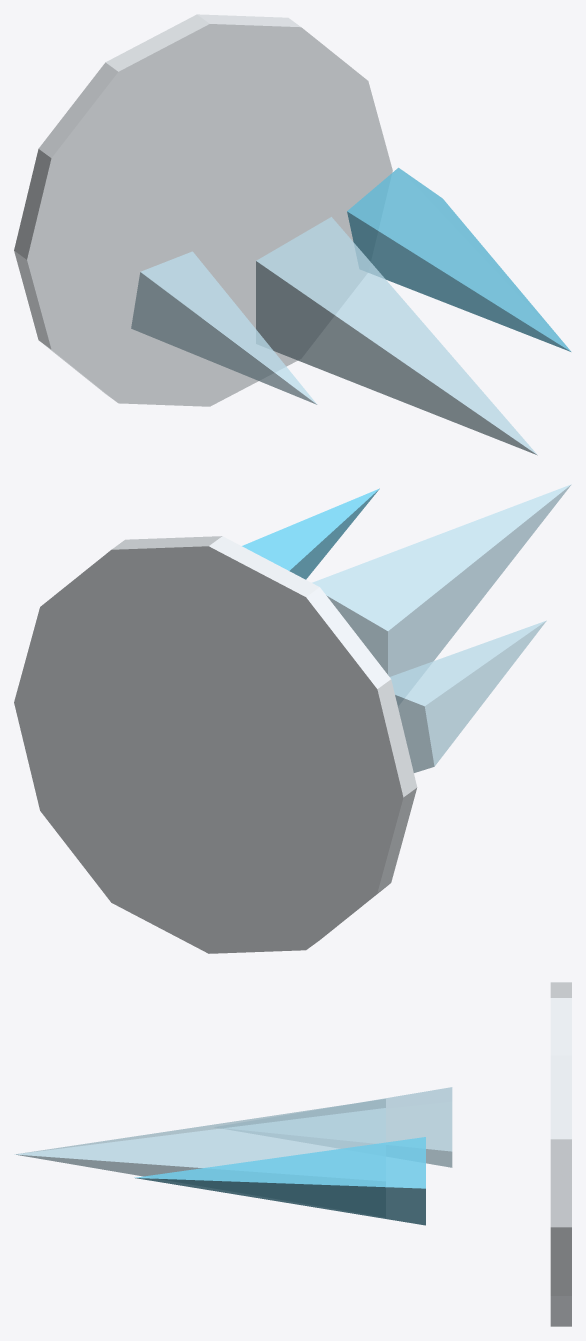
The model's file is snow_ice_crystal_cluster.glb.
The picture shows the model from 3 angles, top to bottom: view 1: azimuth 30°, elevation 25°; view 2: azimuth 150°, elevation 25°; view 3: azimuth 270°, elevation 25°; orthographic projection. The views are drawn at different scales.
Visible parts, largest first — view 1: snow_base, crystal_a, crystal_b, crystal_c; view 2: snow_base, crystal_a, crystal_c, crystal_b; view 3: crystal_a, crystal_b, crystal_c, snow_base.
Boxes of the visible parts, x1,y1,x2,y2 form: snow_base: (14, 14, 392, 406); crystal_a: (256, 217, 537, 455); crystal_b: (347, 167, 571, 351); crystal_c: (131, 251, 317, 404); snow_base: (14, 536, 417, 953); crystal_a: (312, 484, 571, 705); crystal_c: (390, 620, 546, 772); crystal_b: (242, 488, 379, 579); crystal_a: (14, 1098, 385, 1176); crystal_b: (134, 1137, 425, 1225); crystal_c: (217, 1087, 452, 1167); snow_base: (550, 982, 571, 1326).
Size of the model in its own units: 1.3 by 1.3 by 2.1.
